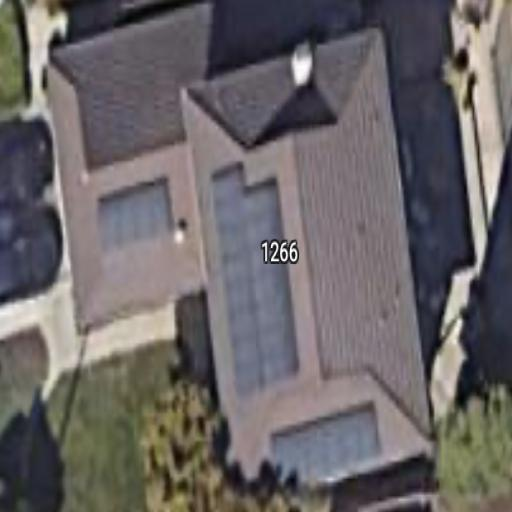Solar-Slope-Roof: (42, 1, 435, 501)
